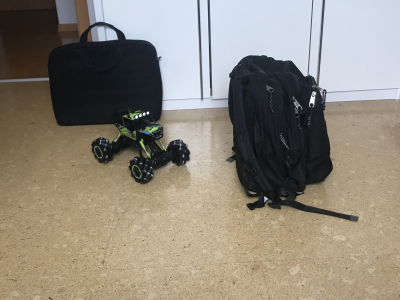remote control car: (89, 107, 192, 186)
